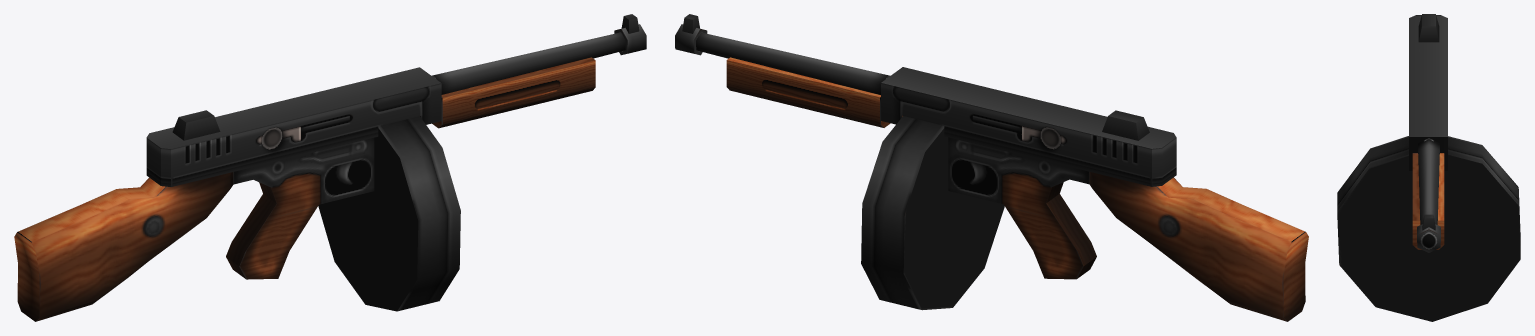
File: thompson lv2.FBX
3 renders of one model, left to right at view 1: azimuth 30°, elevation 25°; view 2: azimuth 150°, elevation 25°; view 3: azimuth 270°, elevation 25°, orthographic. The views are drawn at different scales.
Parts seen in each view (by area): view 1: Object118; view 2: Object118; view 3: Object118.
Part boxes in pixels (x1=…): Object118: x1=14, y1=14, x2=646, y2=321; Object118: x1=675, y1=14, x2=1308, y2=321; Object118: x1=1337, y1=14, x2=1520, y2=321.
Size of the model in its own units: 86.04 by 30.89 by 24.69.
